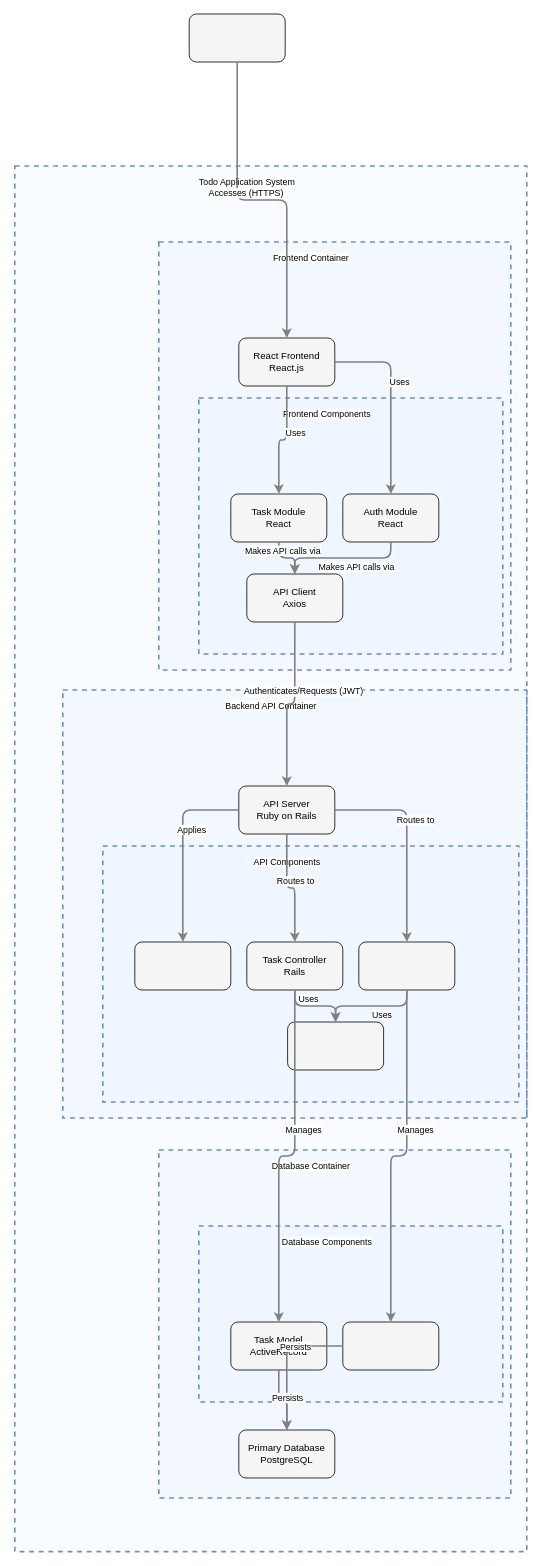
The diagram is 541 pixels wide and 1566 high, and some of its shapes have lost their labels. The box of each missing label's shape, as (x1, y1, x2, y2) in pixels:
Auth Controller Devise/JWT: (358, 941, 455, 990)
CORS Handler Rack::CORS: (134, 941, 231, 990)
User: (188, 13, 285, 62)
User Model ActiveRecord: (342, 1321, 439, 1370)
User Serializer Rails: (287, 1021, 384, 1070)
